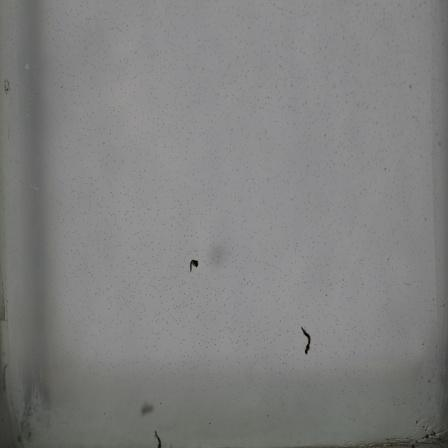Jentik-Nyamuk: (299, 323, 313, 356), (185, 254, 202, 276), (149, 427, 166, 448)
